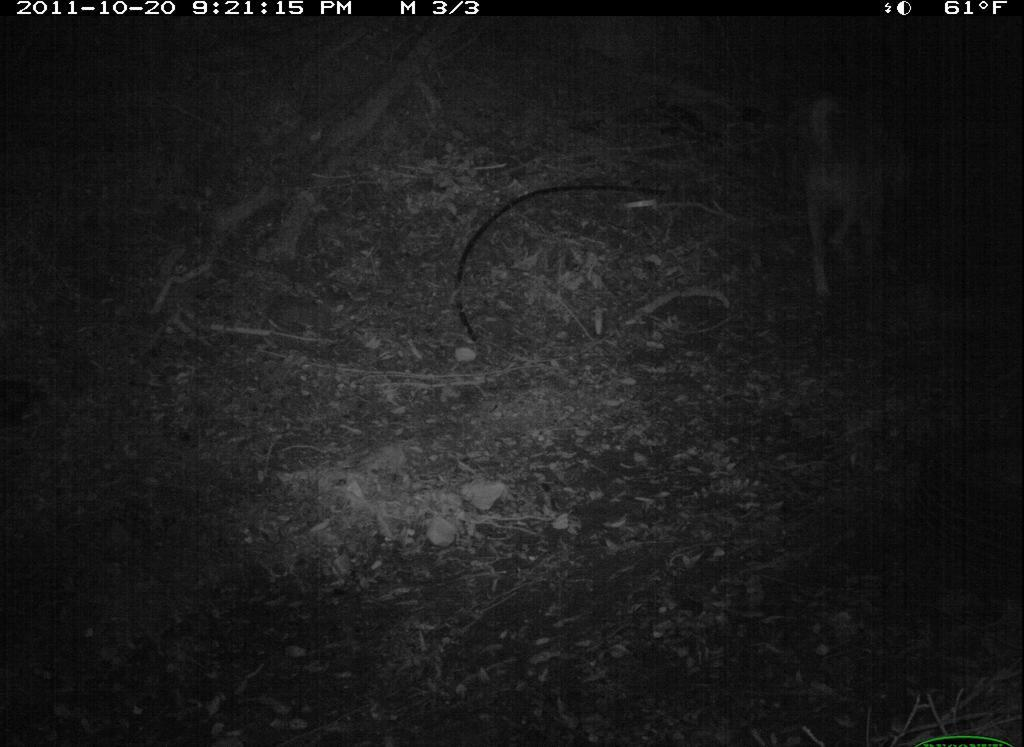dog: (776, 73, 952, 301)
